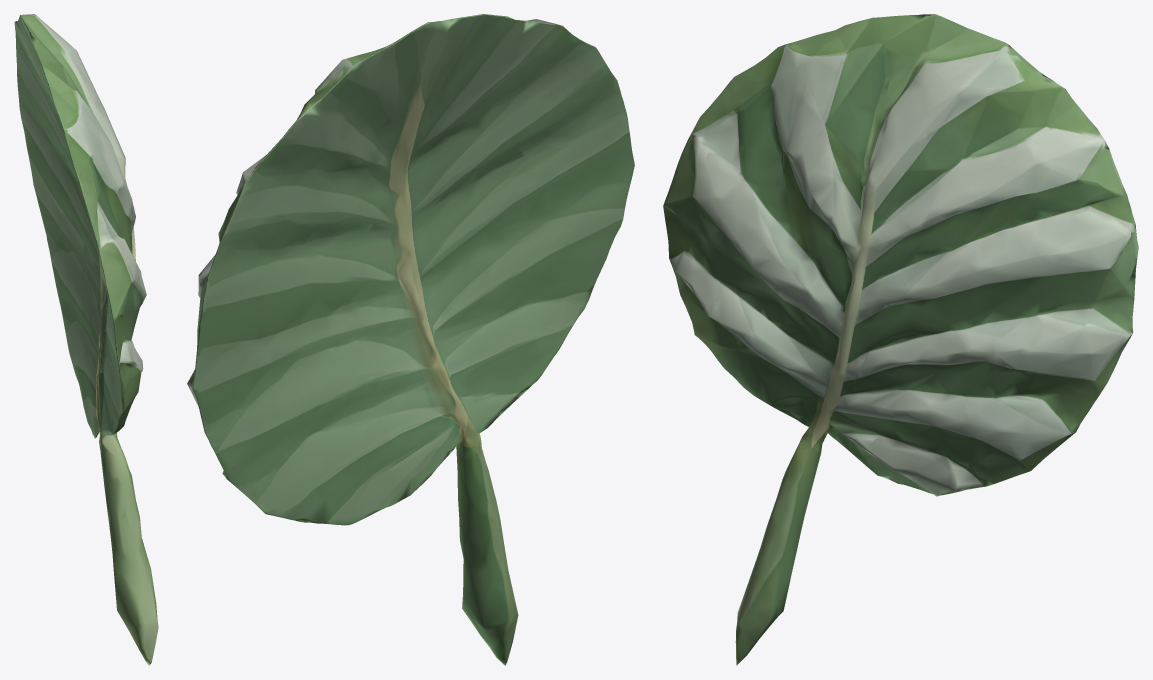
Rendered from ca_leaf_mid.glb.
3 views of the same model, side by side, from view 1: azimuth 30°, elevation 25°; view 2: azimuth 150°, elevation 25°; view 3: azimuth 270°, elevation 25° (orthographic). The views are drawn at different scales.
Parts seen in each view (by area): view 1: tripo_node_2dd9074a-2442-4584-a31a-02766d8e5933; view 2: tripo_node_2dd9074a-2442-4584-a31a-02766d8e5933; view 3: tripo_node_2dd9074a-2442-4584-a31a-02766d8e5933.
Boxes of the visible parts, x1=… form: tripo_node_2dd9074a-2442-4584-a31a-02766d8e5933: x1=14, y1=14, x2=158, y2=665; tripo_node_2dd9074a-2442-4584-a31a-02766d8e5933: x1=187, y1=14, x2=634, y2=665; tripo_node_2dd9074a-2442-4584-a31a-02766d8e5933: x1=663, y1=14, x2=1138, y2=665.
Bounding box in the file's own units: 0.2799 × 1 × 0.6778.
Materials: 1 (1 with a texture image).
